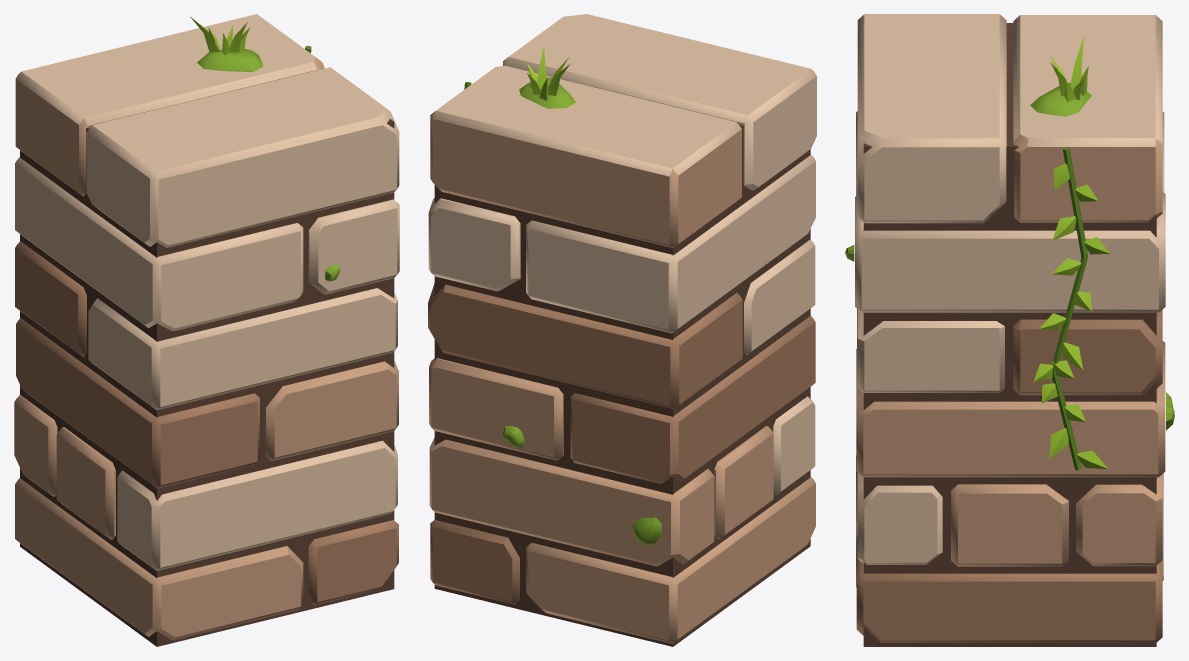
The model's file is wall__upper.glb.
3 views of the same model, side by side, from view 1: azimuth 30°, elevation 25°; view 2: azimuth 150°, elevation 25°; view 3: azimuth 270°, elevation 25° (orthographic). The views are drawn at different scales.
Parts seen in each view (by area): view 1: wall; view 2: wall; view 3: wall.
Part boxes in pixels (x1=…): wall: x1=14, y1=14, x2=399, y2=646; wall: x1=428, y1=14, x2=816, y2=646; wall: x1=845, y1=14, x2=1174, y2=646.
Bounding box in the file's own units: 1.05 × 1.98 × 1.06.
